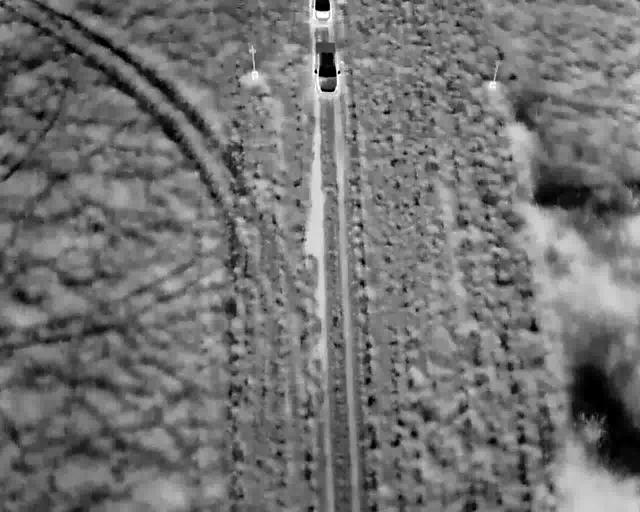car: (312, 38, 341, 93), (307, 0, 336, 26)
